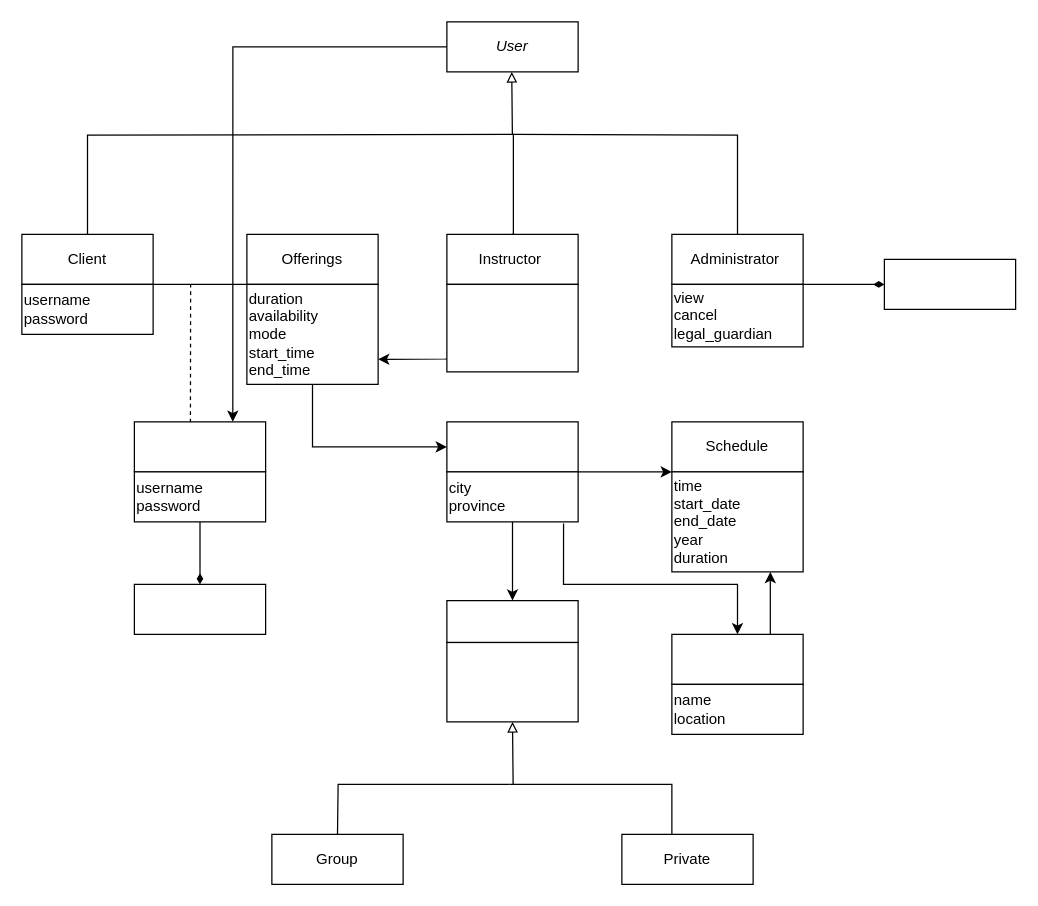
This 1038x906 diagram has some shape labels left out. The box of each missing label's shape, as (x1, y1, x2, y2) in pixels:
Booking: (133, 421, 266, 472)
Catalog: (133, 583, 266, 634)
Lesson: (446, 599, 578, 642)
Location: (446, 421, 578, 472)
name phone_number specialization availability: (446, 283, 578, 372)
Records: (883, 258, 1016, 309)
Room: (671, 633, 803, 684)
type duration start_date end_date: (446, 641, 578, 722)
